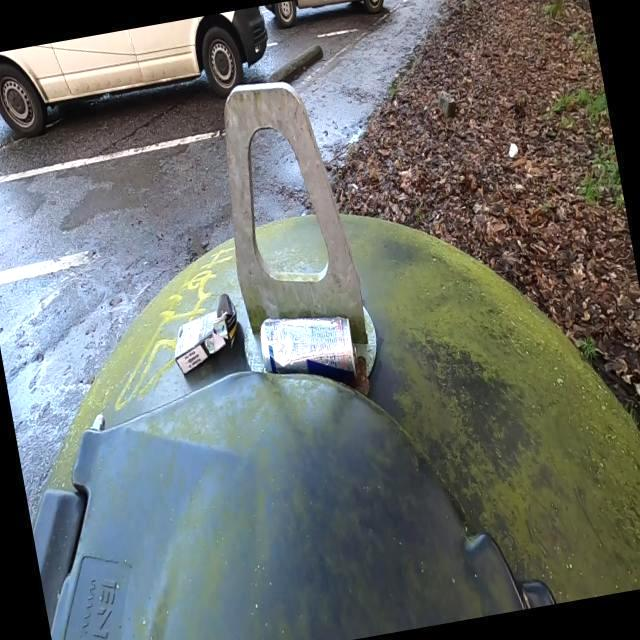Metal: (260, 314, 358, 382)
Paper: (174, 292, 238, 378)
